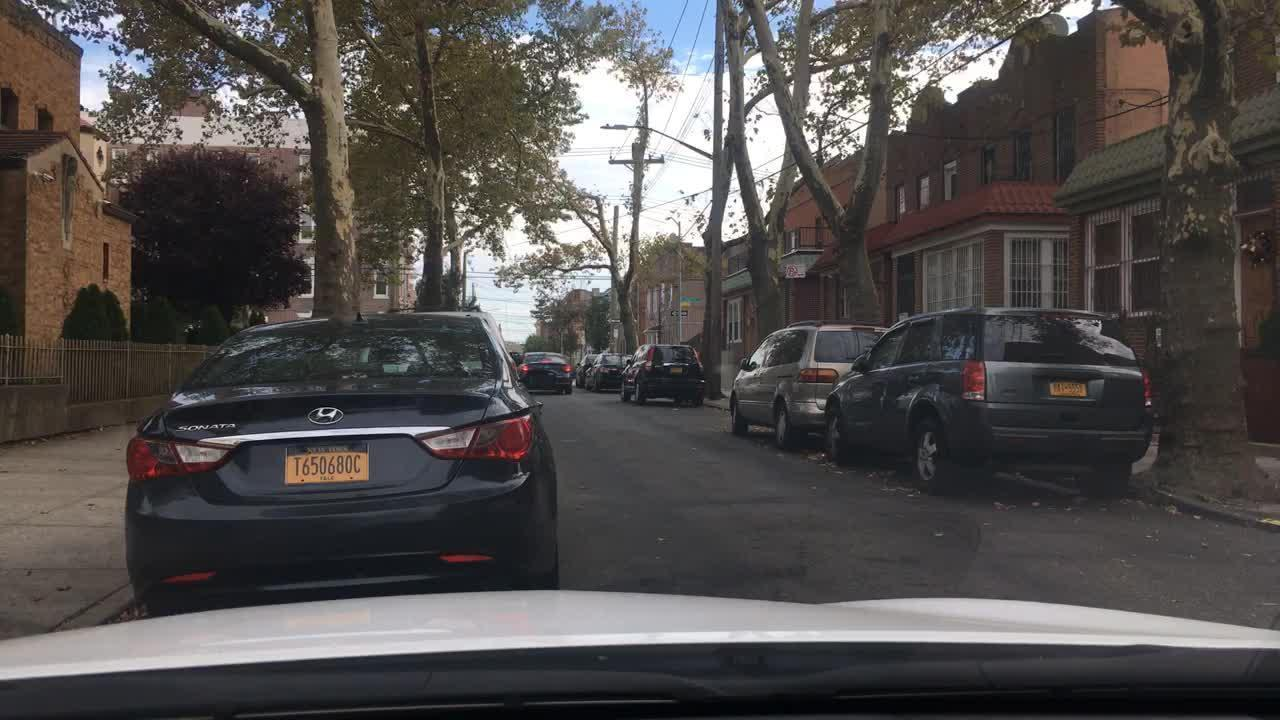Hyundai: (306, 406, 346, 429)
